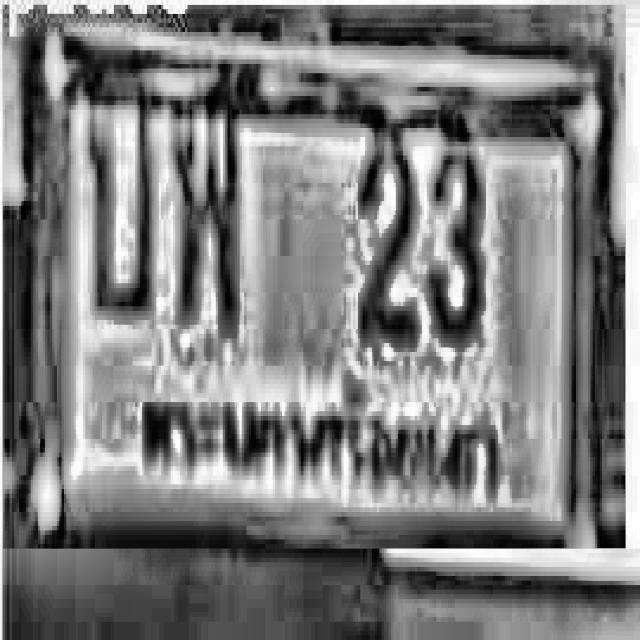license-plate: (34, 31, 602, 558)
